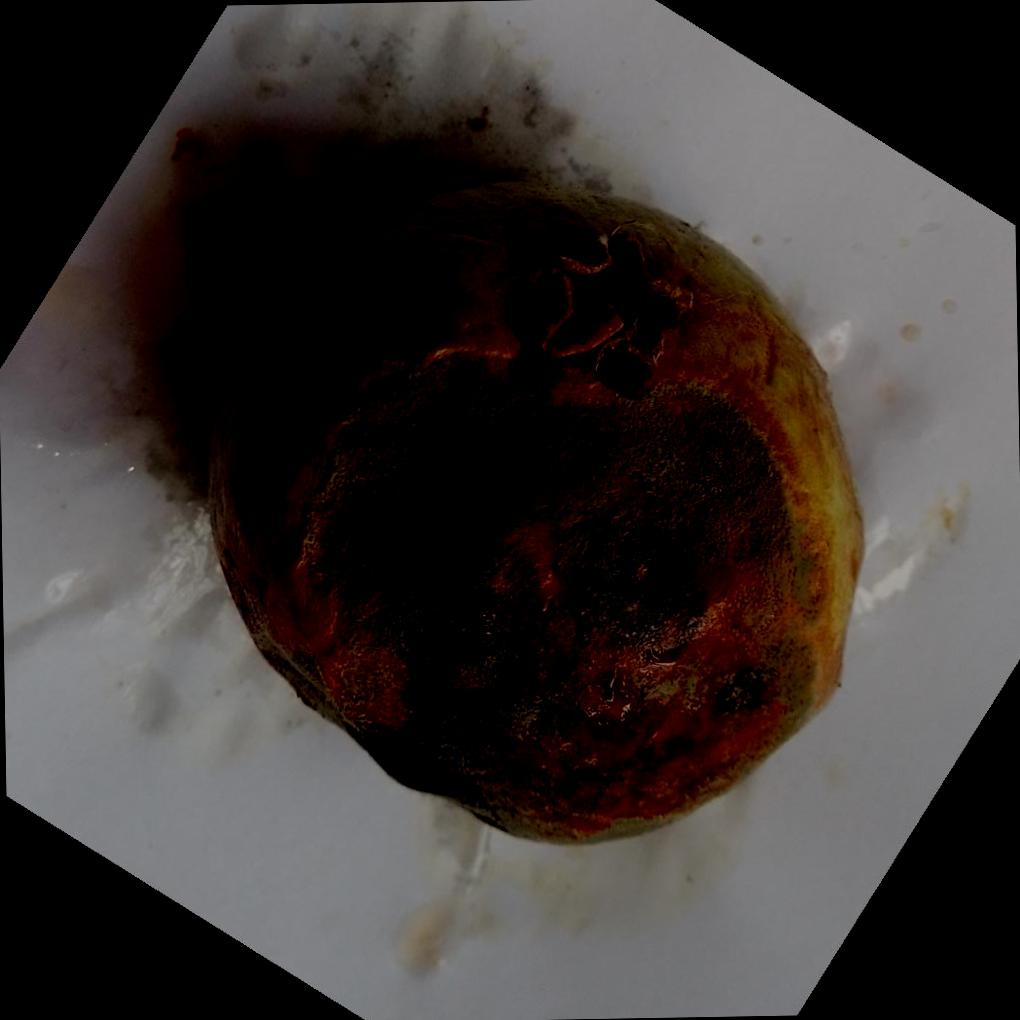FreshOrange: (198, 170, 862, 846)
